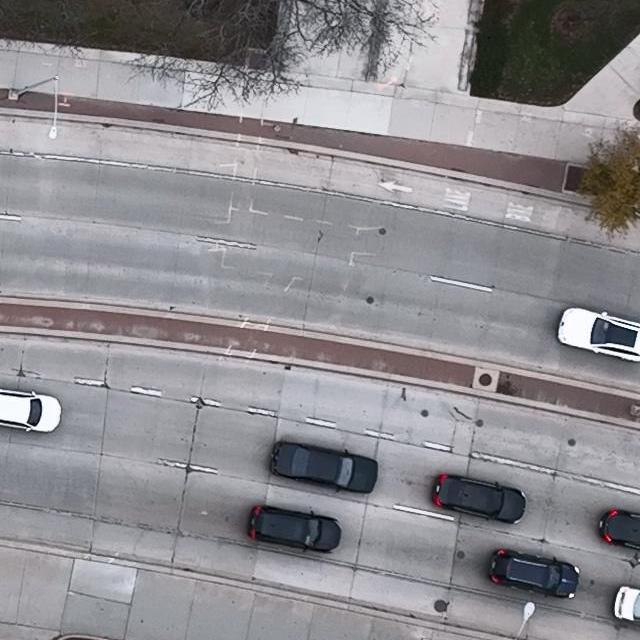car: (270, 440, 379, 495), (432, 473, 527, 525), (556, 308, 640, 362), (246, 506, 340, 554), (488, 549, 579, 598), (0, 388, 63, 434), (600, 510, 640, 549), (612, 584, 640, 624)
